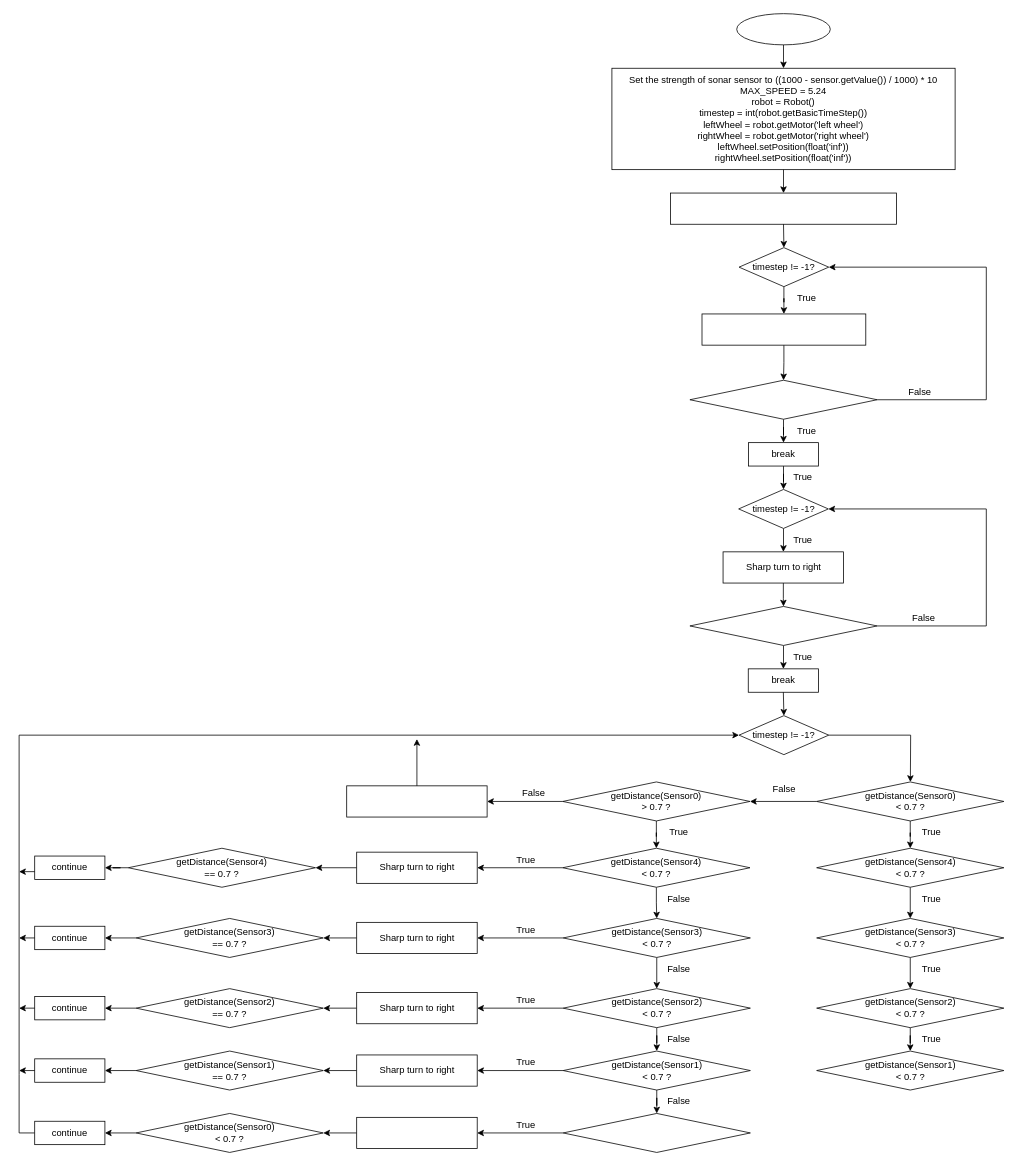
Image size: 1018x1166. Some labels were removed from this diagram. The shapes that lost their labels are listed below. From the top down, each one's centre as x and y in pixels, then its label:
At point 783,29: "START".
At point 783,208: "Get and enable so0, so1, so2, so3, so4, so15.".
At point 783,329: "Move forward".
At point 783,399: "getDistance(Sensor3) < 0.45 ?".
At point 783,625: "getDistance(Sensor0) < 1 ?".
At point 416,801: "Move forward with maxspeed.".
At point 416,1133: "Turn to left".
At point 656,1132: "getDistance(Sensor15) > 0.4 ?".
